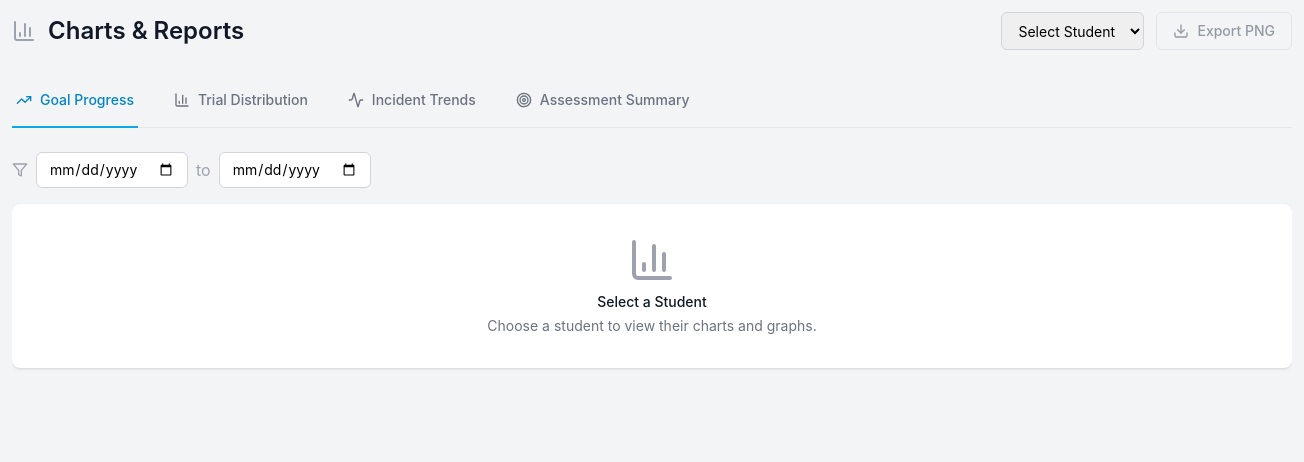
Test: ChartsPage › switches to assessment summary chart
Select "Alice Johnson" in the dropdown at coordinates (1073, 31), box [1002,12,1144,50]
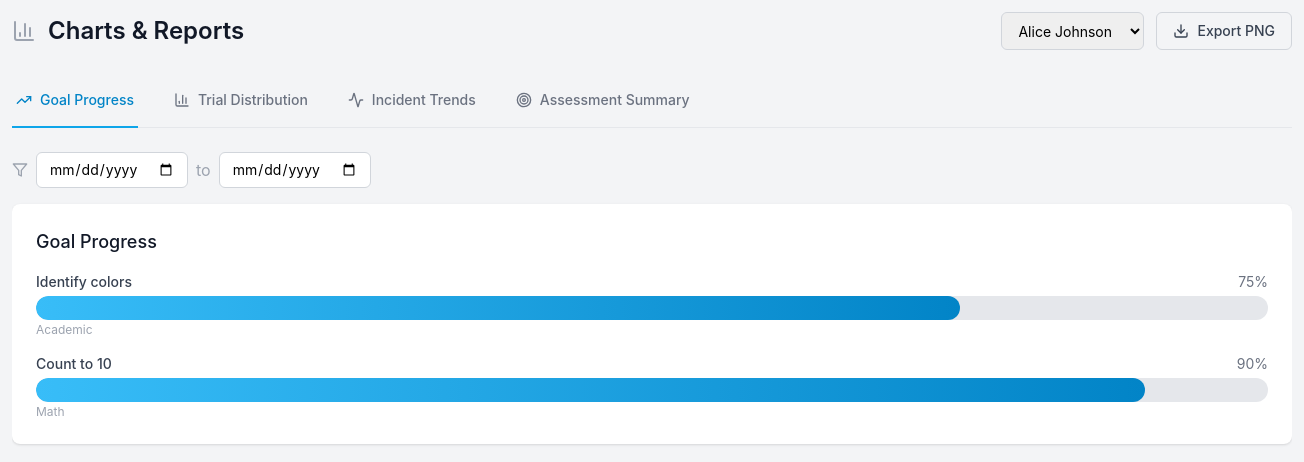
Expected: the text "Identify colors" is shown, [36,273,132,290]
Click the button "Assessment Summary" at coordinates (603, 101), box [512,74,694,128]
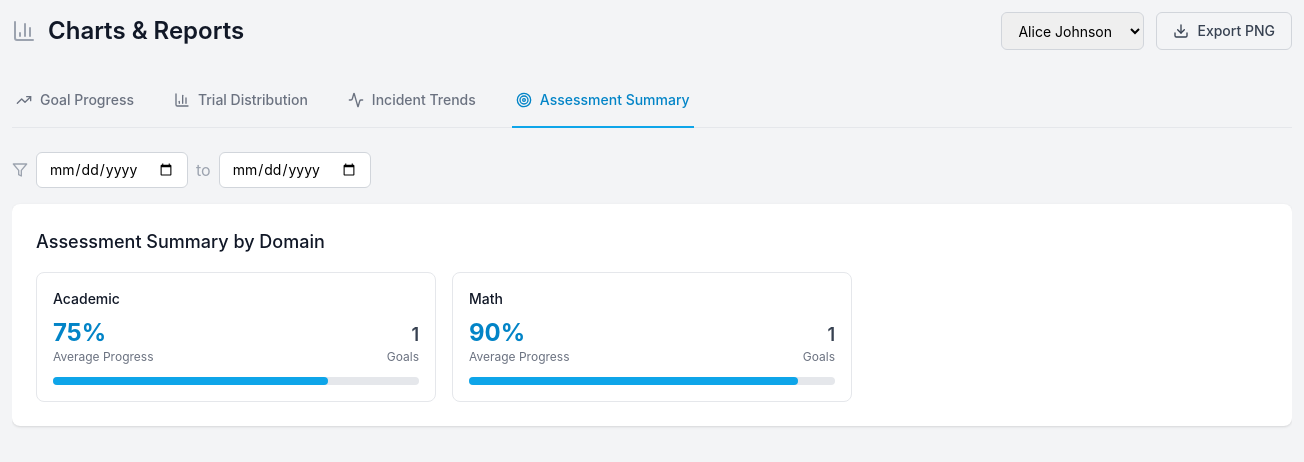
Expected: the heading "Assessment Summary by Domain" is shown, [36,231,325,252]
